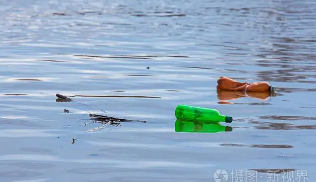garbage: (51, 91, 156, 142), (171, 102, 239, 130), (213, 77, 282, 98)
